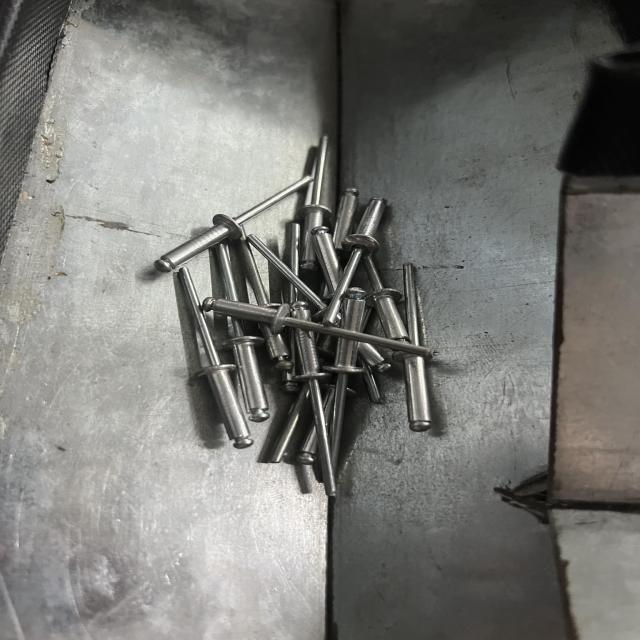rivet: (155, 178, 316, 285), (200, 298, 441, 367), (178, 268, 254, 451)
